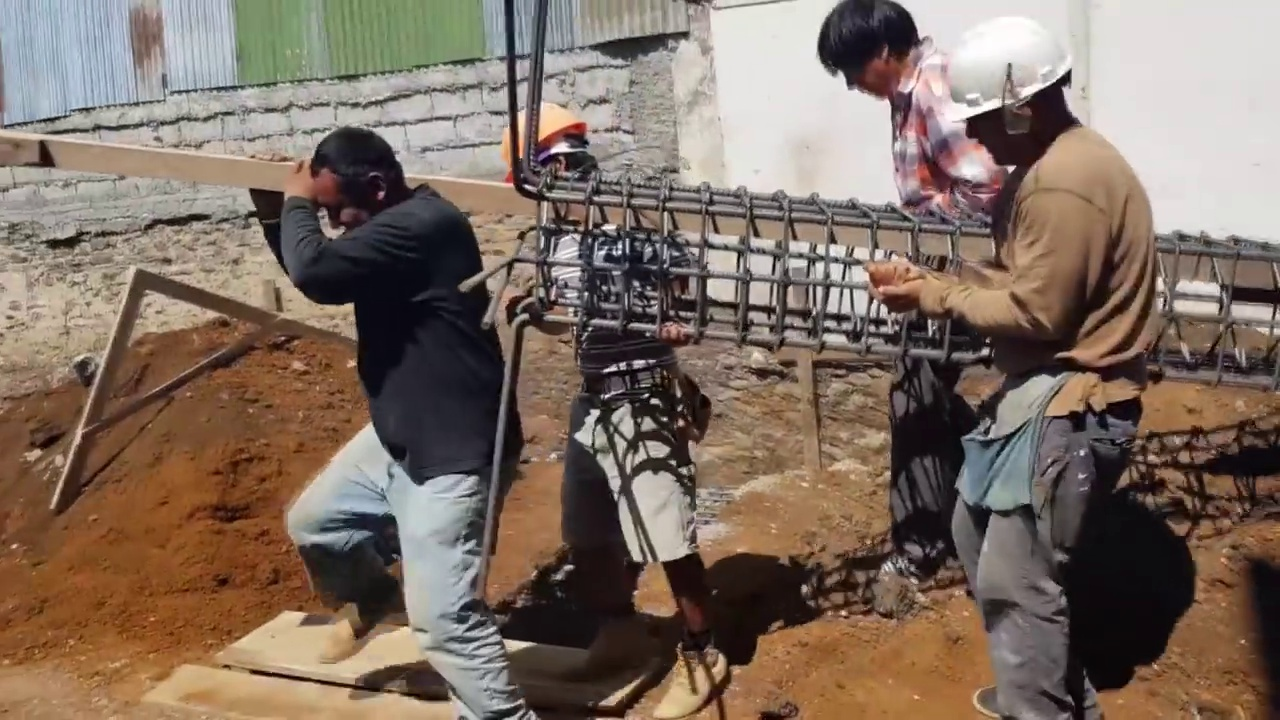helmet: (944, 9, 1068, 127), (506, 105, 588, 168)
helmet-off: (818, 2, 927, 110), (297, 121, 406, 223)
helmet-on: (943, 8, 1084, 166), (500, 102, 598, 232)
person: (864, 7, 1159, 704), (254, 100, 538, 720), (820, 0, 1017, 606), (501, 97, 713, 646)
